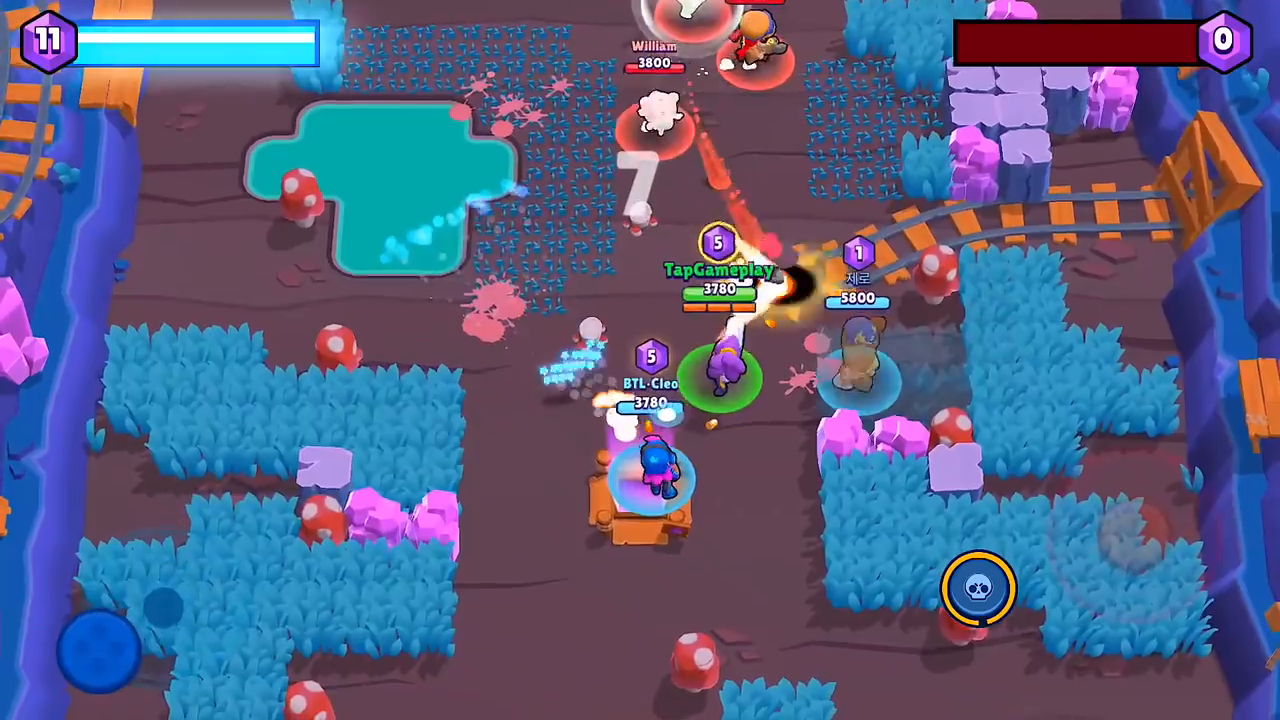move_stick: (53, 605, 146, 696)
red: (612, 45, 711, 173), (722, 1, 800, 98)
